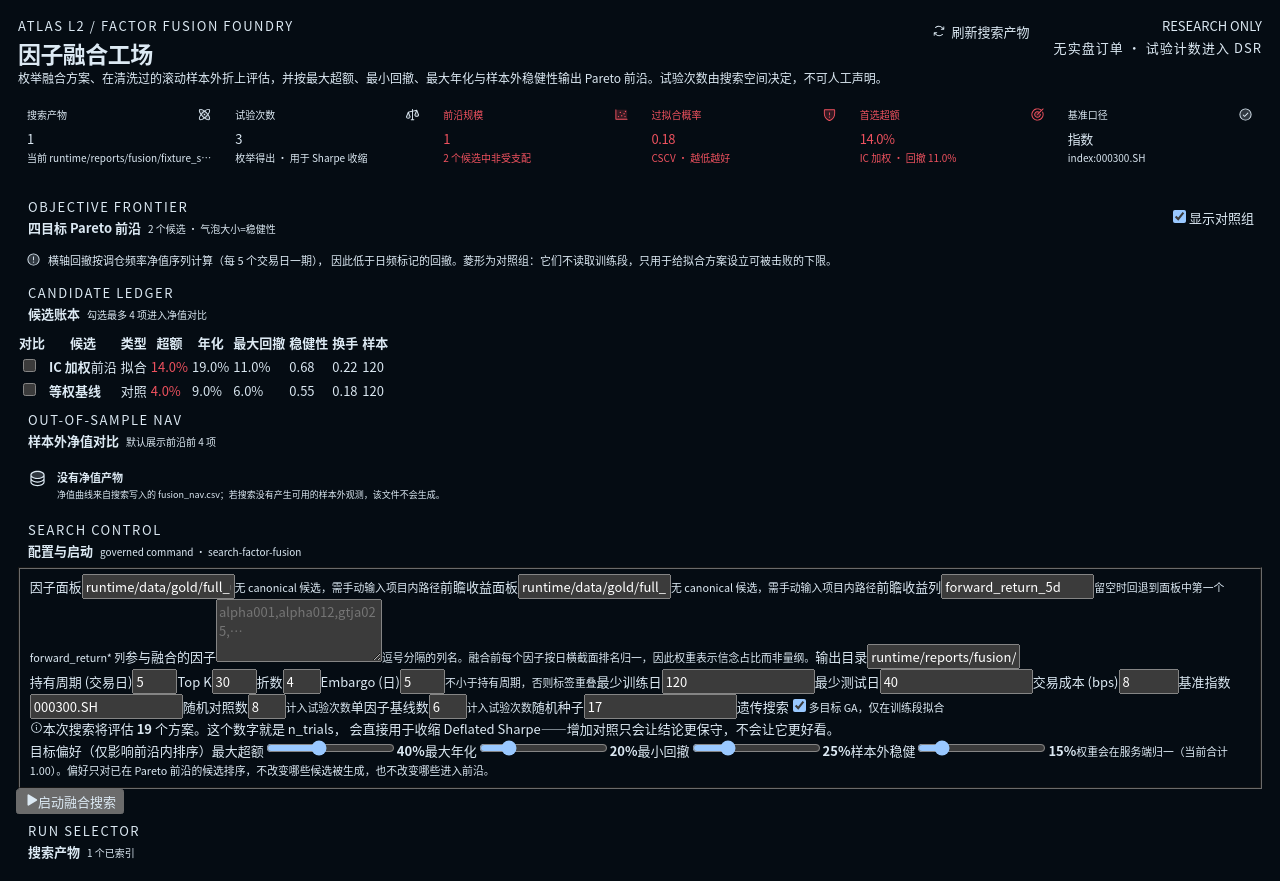
Test: hiding controls removes them from the ledger
This screenshot has width=1280, height=881.
expect the text "等权基线" is shown: met, box [49,380,101,400]
Click the checkbox labelled "显示对照组" at (1180, 216), box [1173,210,1186,223]
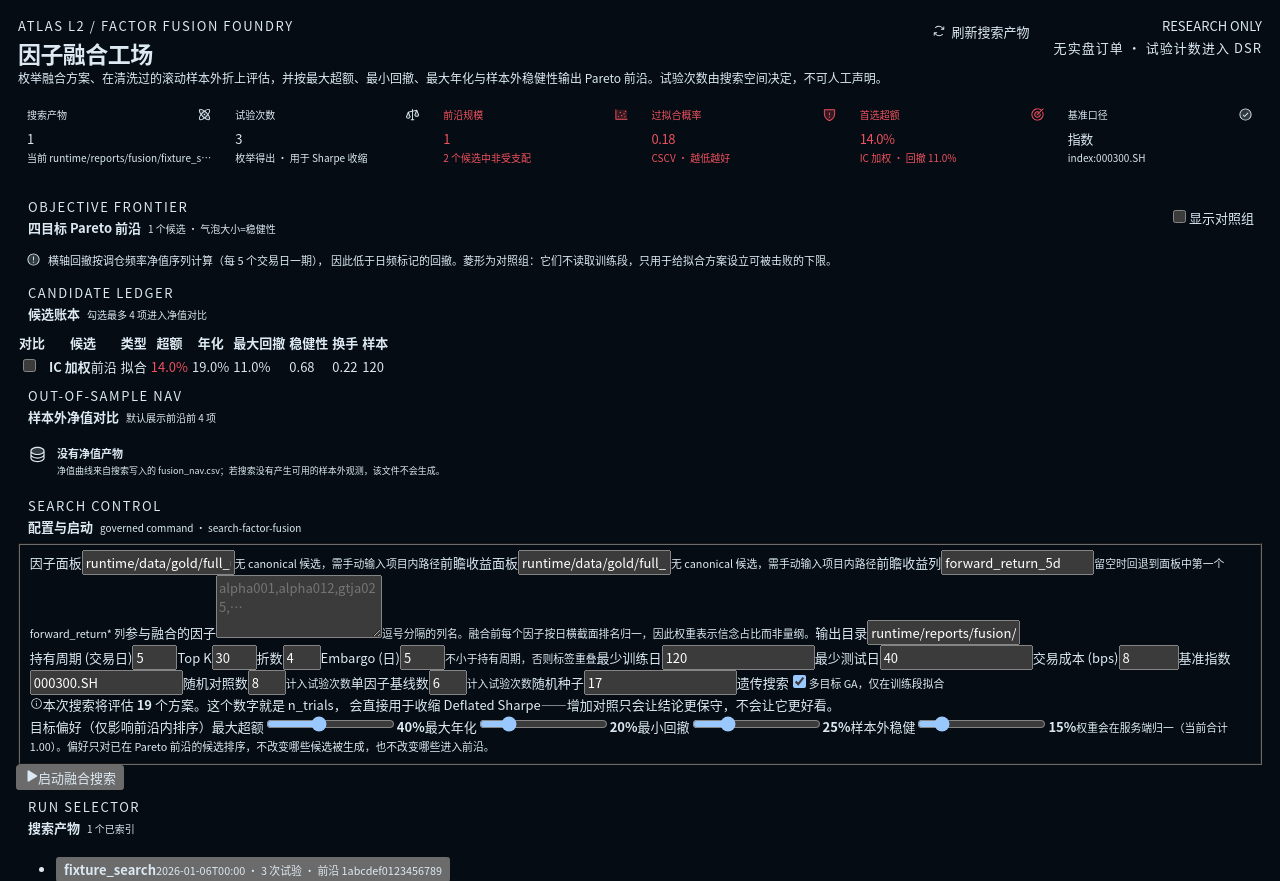
expect the text "IC 加权" is shown: met, box [49,356,91,376]
expect the text "等权基线" is gone: met
